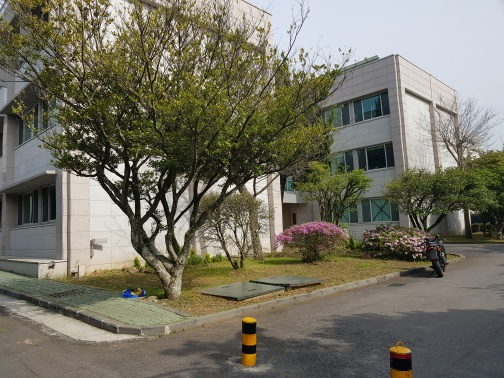College of Nursing: (18, 16, 478, 242)
